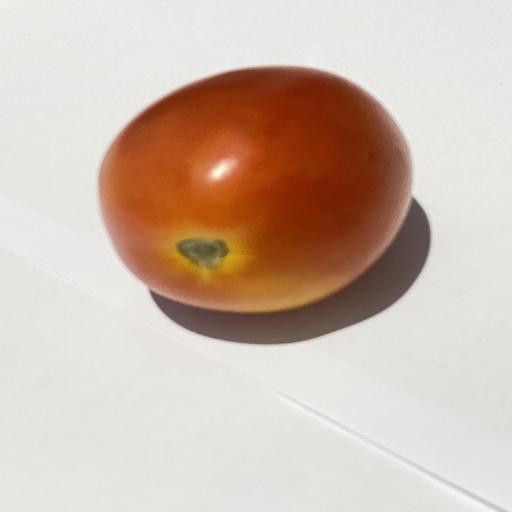ripe: (99, 67, 412, 313)
